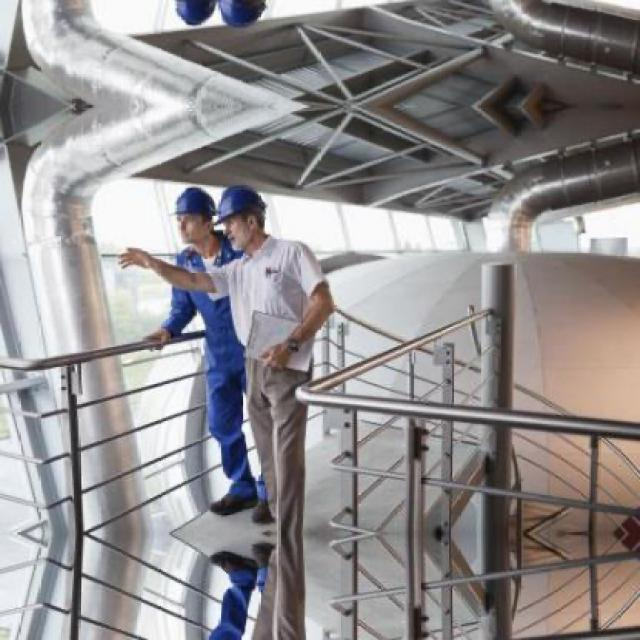helmet: (206, 184, 277, 256), (165, 182, 223, 259), (206, 0, 279, 31), (164, 0, 224, 32)
